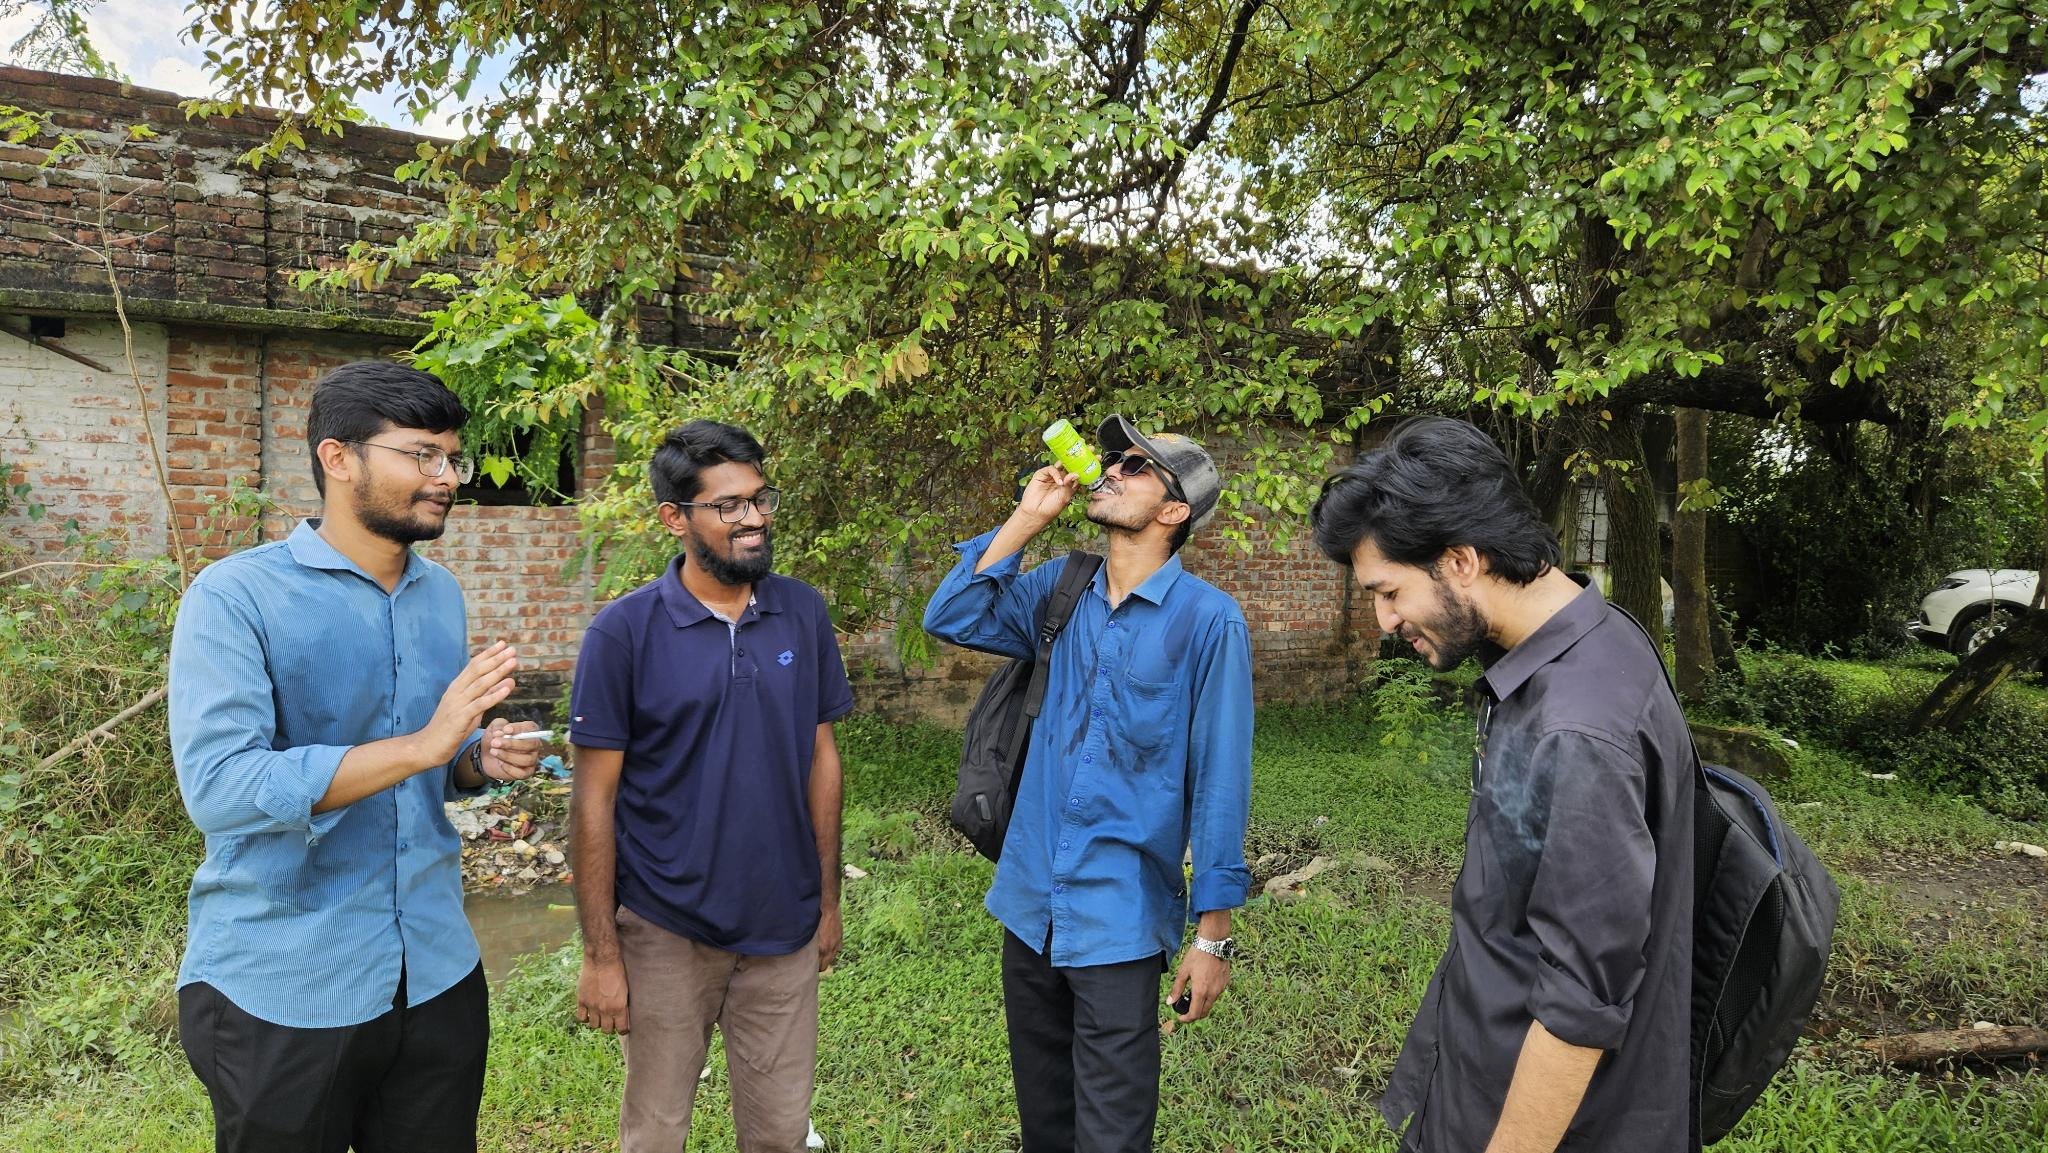cigarette: (502, 728, 557, 741)
nonSmoker: (1311, 418, 1831, 1153), (924, 413, 1252, 1153), (570, 419, 855, 1153)
smoker: (167, 363, 542, 1153)
